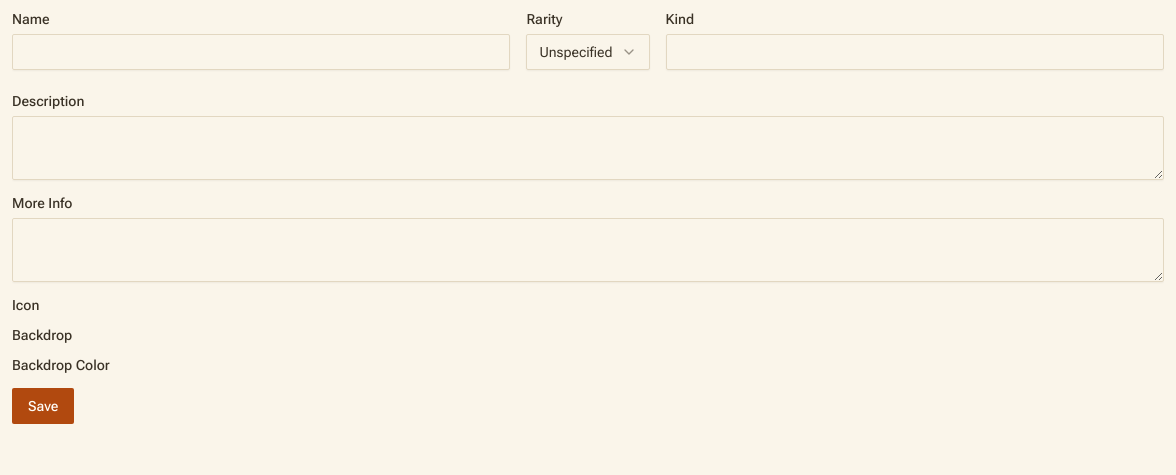
Test: item builder mutation › shows a save failure without clearing the draft
Type "Unsaved Item" into the field labelled "Name".
click(261, 52); type("Unsaved Item")  # box 12,34 -> 510,70
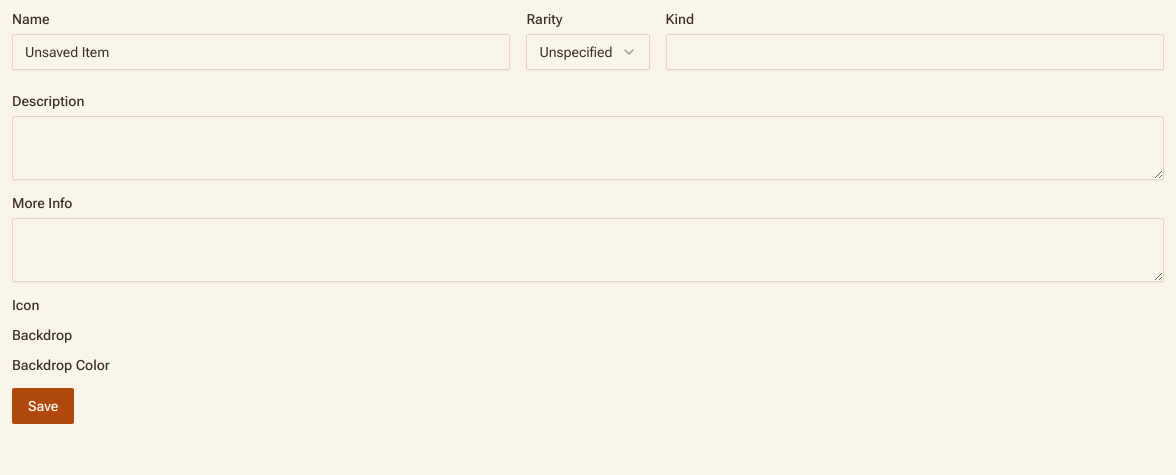
Type "Draft description" into the text box labelled "Description".
click(588, 148); type("Draft description")  # box 12,116 -> 1164,180
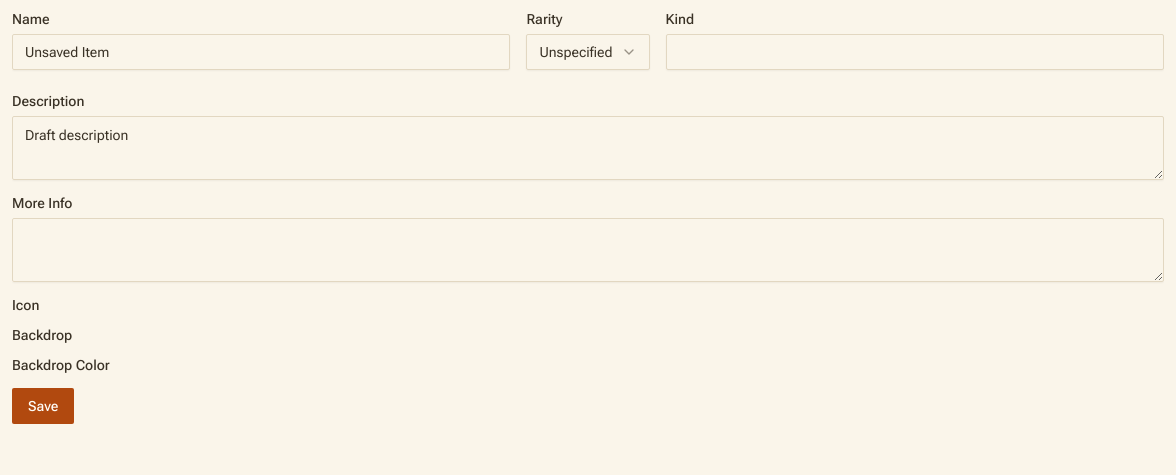
Click the button "Save".
click(43, 406)  # box 12,388 -> 74,424
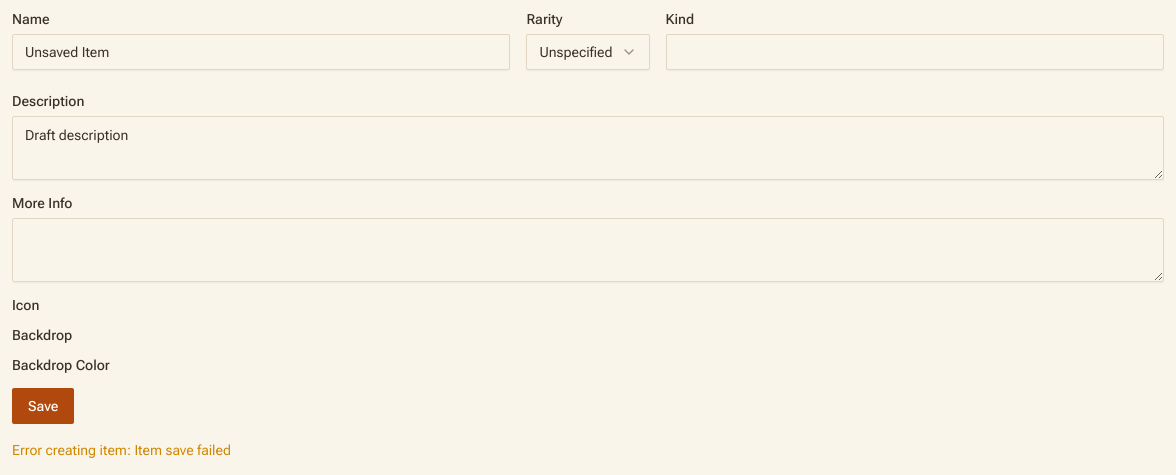
Expected: the text "Error creating item: Item save failed" is shown, 12,442 -> 231,458
